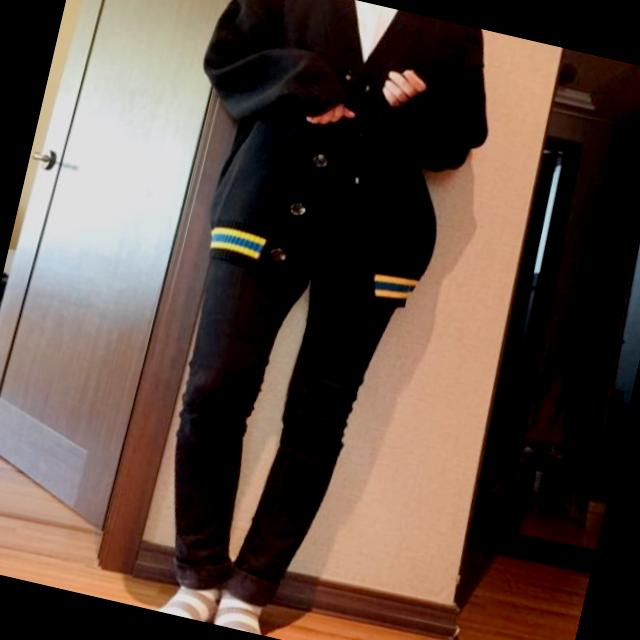cardigan: (159, 0, 510, 317)
denimpants: (134, 252, 405, 624)
